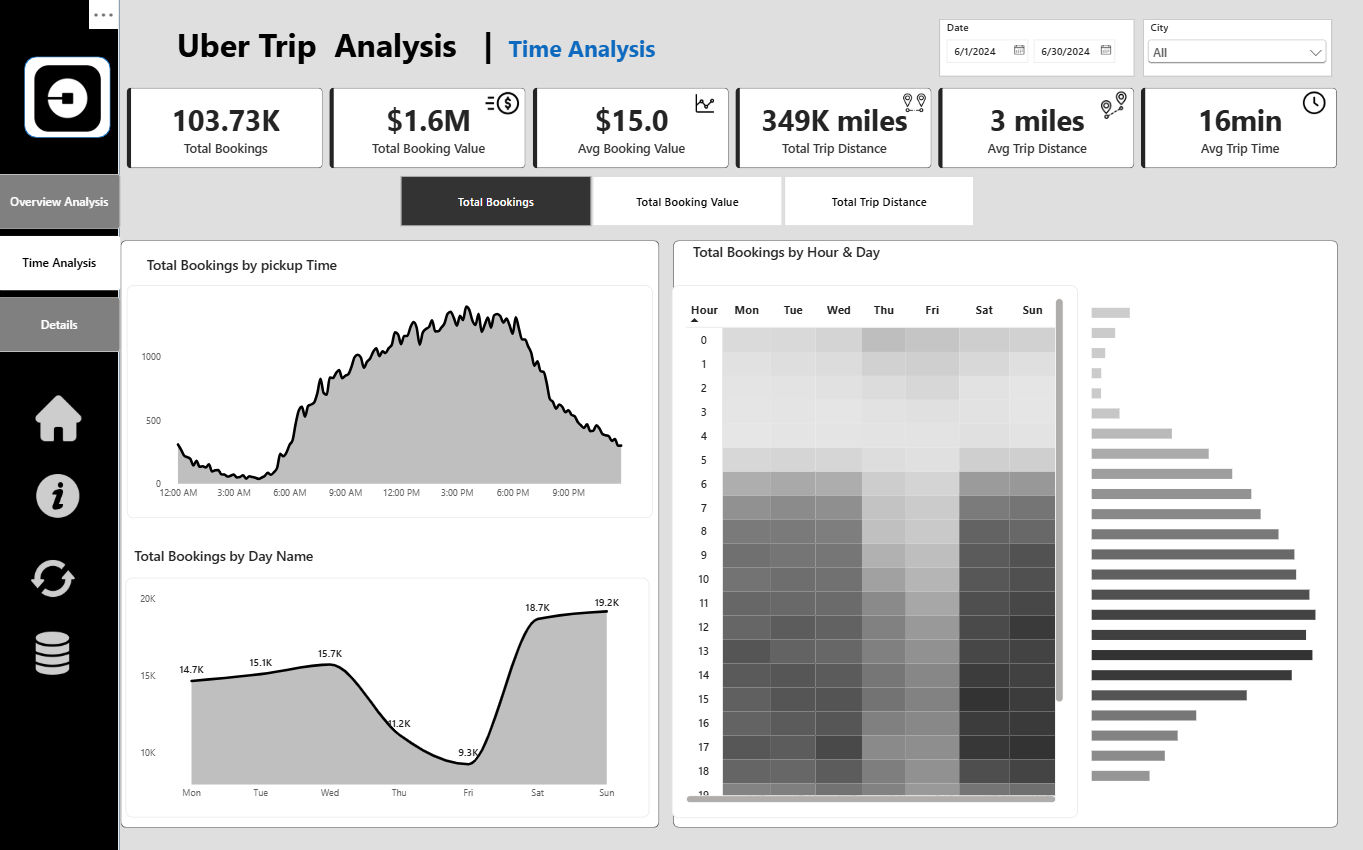

What the dashboard file says about the page in this screenshot:
{"tool":"powerbi","page":{"name":"Time Analysis","canvas":[1600,1000],"ordinal":1},"visuals":[{"type":"shape","box":[0,0,141.6,1000.3],"z":0},{"type":"textbox","box":[208.8,27.7,736,57],"z":1000},{"type":"cardVisual","fields":{"Data":["Trip Details.Total Bookings","Trip Details.Total Booking Value","Trip Details.Avg Booking Amount","Trip Details.Total Trip Distance","Trip Details.Avg Trip Distance","Trip Details.Avg Trip Time"]},"box":[150.4,103.7,1415,94.9],"z":2000},{"type":"image","box":[1047,108.1,46.7,26.3],"z":3000},{"type":"image","box":[569.5,102.2,39.2,39.2],"z":4000},{"type":"image","box":[1282.1,108.1,45.1,32],"z":5000},{"type":"image","box":[1517.2,108.1,40.7,26.2],"z":6000},{"type":"image","box":[804.6,109.5,42.3,24.8],"z":7000},{"type":"shape","box":[143.1,281.8,629.4,686.3],"z":8000},{"type":"slicer","fields":{"Values":["Dynamic Measure.Dynamic Measure"]},"box":[449.8,204.4,709.7,62.8],"z":9000},{"type":"slicer","fields":{"Values":["Calender Table.Date"]},"box":[1099.6,23.4,227.8,67.2],"z":10000},{"type":"slicer","fields":{"Values":["Location Table.City"]},"box":[1337.6,23.4,220.5,67.2],"z":11000},{"type":"areaChart","fields":{"Y":["Trip Details.Total Bookings"],"Category":["Trip Details.Pickup Hour (HH MM SS) (bins)"]},"box":[150.4,334.4,614.8,271.6],"z":12000},{"type":"cardVisual","fields":{"Data":["Trip Details.Title for by Pickup Time"]},"box":[157.7,296.4,298,27.2],"z":13000},{"type":"areaChart","fields":{"Y":["Trip Details.Total Bookings"],"Category":["Calender Table.Day Name"]},"box":[148.9,676.1,611.9,280.4],"z":14000},{"type":"cardVisual","fields":{"Data":["Trip Details.Title for by Day Name"]},"box":[143.1,636.7,298,27.2],"z":15000},{"type":"shape","box":[788.6,281.8,776.9,686.3],"z":16000},{"type":"pivotTable","fields":{"Values":["Trip Details.Total Bookings"],"Rows":["Trip Details.Pickup Hour"],"Columns":["Calender Table.Day Name"]},"box":[787.1,334.4,474.6,622.1],"z":17000},{"type":"clusteredBarChart","fields":{"Y":["Trip Details.Total Bookings"],"Category":["Trip Details.Pickup Hour"]},"box":[1261.7,334.4,296.4,622.1],"z":18000},{"type":"cardVisual","fields":{"Data":["Trip Details.Title for by Hour & Day"]},"box":[795.9,281.8,298,27.2],"z":19000},{"type":"pageNavigator","box":[0,204.4,143.1,208.8],"z":20000},{"type":"image","box":[1824.4,162.2,97.4,65.4],"z":21000},{"type":"shape","box":[30.7,67.2,100.8,94.9],"z":22000},{"type":"image","box":[32.1,77.4,97.8,77.4],"z":23000},{"type":"image","box":[43.8,461.5,53.8,56.7],"z":24000},{"type":"image","box":[35,554.9,69.8,50.9],"z":25000},{"type":"image","box":[23.4,651.3,81.4,50.9],"z":26000},{"type":"image","box":[38,728.7,50.9,71.2],"z":27000}]}

Visuals, with their boxes on the page's 1600x1000 design canvas (x1, y1, x2, y2). These are canvas units, not pixel positions in the 1363x850 screenshot, which may show the page scaled, cropped or inside an application window:
shape: <bbox>0, 0, 142, 1000</bbox>
textbox: <bbox>209, 28, 945, 85</bbox>
cardVisual - Trip Details.Total Bookings x Trip Details.Total Booking Value: <bbox>150, 104, 1565, 199</bbox>
image: <bbox>1047, 108, 1094, 134</bbox>
image: <bbox>570, 102, 609, 141</bbox>
image: <bbox>1282, 108, 1327, 140</bbox>
image: <bbox>1517, 108, 1558, 134</bbox>
image: <bbox>805, 110, 847, 134</bbox>
shape: <bbox>143, 282, 772, 968</bbox>
slicer - Dynamic Measure.Dynamic Measure: <bbox>450, 204, 1160, 267</bbox>
slicer - Calender Table.Date: <bbox>1100, 23, 1327, 91</bbox>
slicer - Location Table.City: <bbox>1338, 23, 1558, 91</bbox>
areaChart - Trip Details.Total Bookings x Trip Details.Pickup Hour (HH MM SS) (bins): <bbox>150, 334, 765, 606</bbox>
cardVisual - Trip Details.Title for by Pickup Time: <bbox>158, 296, 456, 324</bbox>
areaChart - Trip Details.Total Bookings x Calender Table.Day Name: <bbox>149, 676, 761, 956</bbox>
cardVisual - Trip Details.Title for by Day Name: <bbox>143, 637, 441, 664</bbox>
shape: <bbox>789, 282, 1566, 968</bbox>
pivotTable - Trip Details.Total Bookings x Trip Details.Pickup Hour: <bbox>787, 334, 1262, 956</bbox>
clusteredBarChart - Trip Details.Total Bookings x Trip Details.Pickup Hour: <bbox>1262, 334, 1558, 956</bbox>
cardVisual - Trip Details.Title for by Hour & Day: <bbox>796, 282, 1094, 309</bbox>
pageNavigator: <bbox>0, 204, 143, 413</bbox>
image: <bbox>1824, 162, 1922, 228</bbox>
shape: <bbox>31, 67, 132, 162</bbox>
image: <bbox>32, 77, 130, 155</bbox>
image: <bbox>44, 462, 98, 518</bbox>
image: <bbox>35, 555, 105, 606</bbox>
image: <bbox>23, 651, 105, 702</bbox>
image: <bbox>38, 729, 89, 800</bbox>
